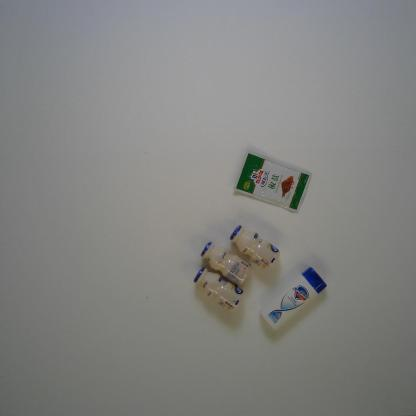Milk: (192, 266, 246, 314), (229, 224, 281, 272), (200, 240, 252, 287)
Personal Hygiene: (258, 266, 328, 333)
Seasoner: (231, 149, 313, 214)
